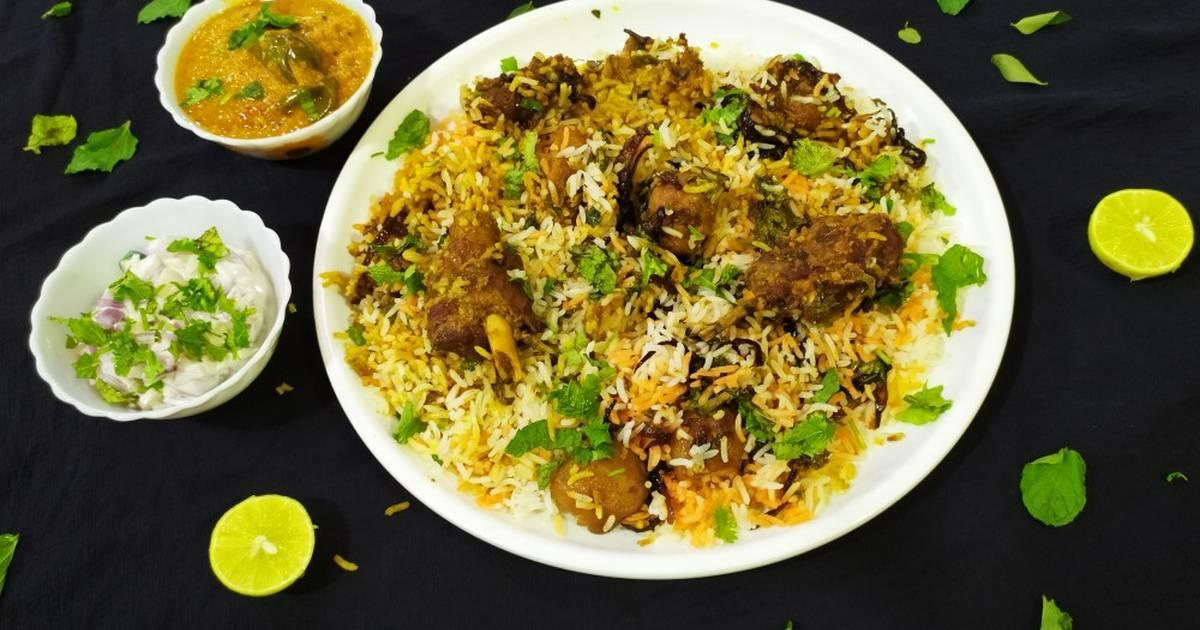Biryani: (321, 21, 992, 544)
